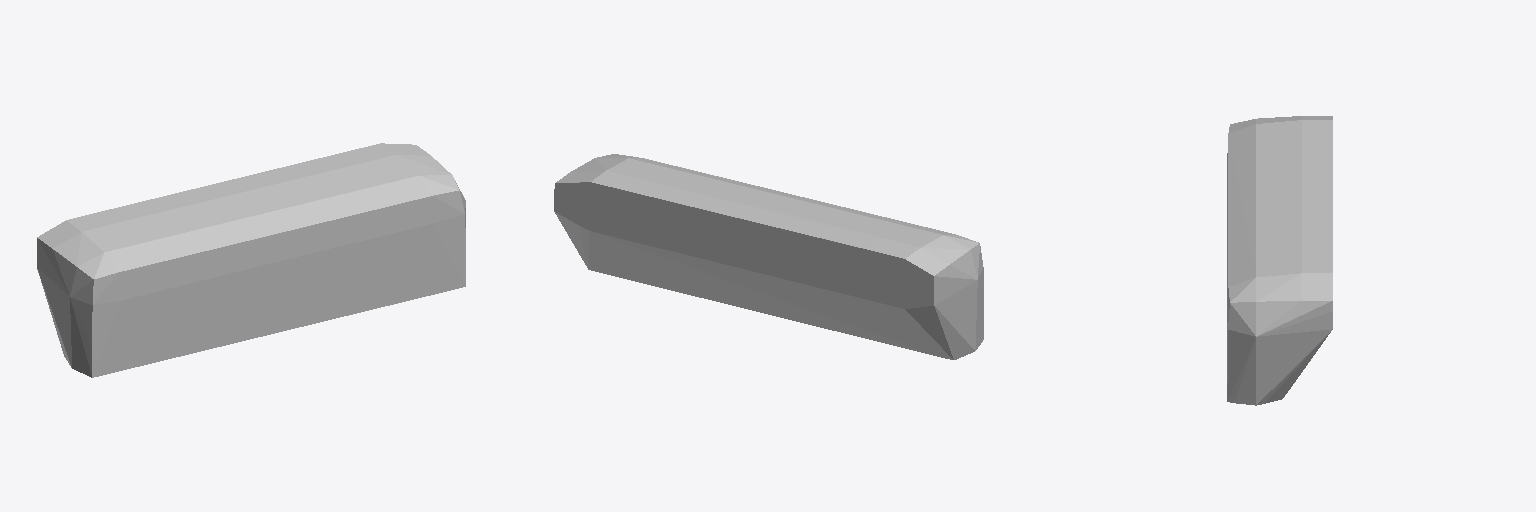
Rendered from ShipScene_collision_26.obj.
3 renders of one model, left to right at view 1: azimuth 30°, elevation 25°; view 2: azimuth 150°, elevation 25°; view 3: azimuth 270°, elevation 25°, orthographic.
Size of the model in its own units: 51.13 by 13.93 by 11.85.